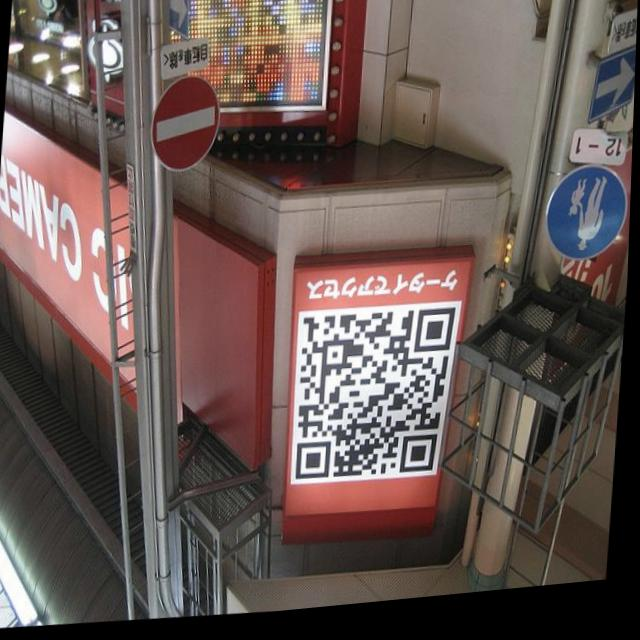qrcode: (297, 314, 457, 490)
